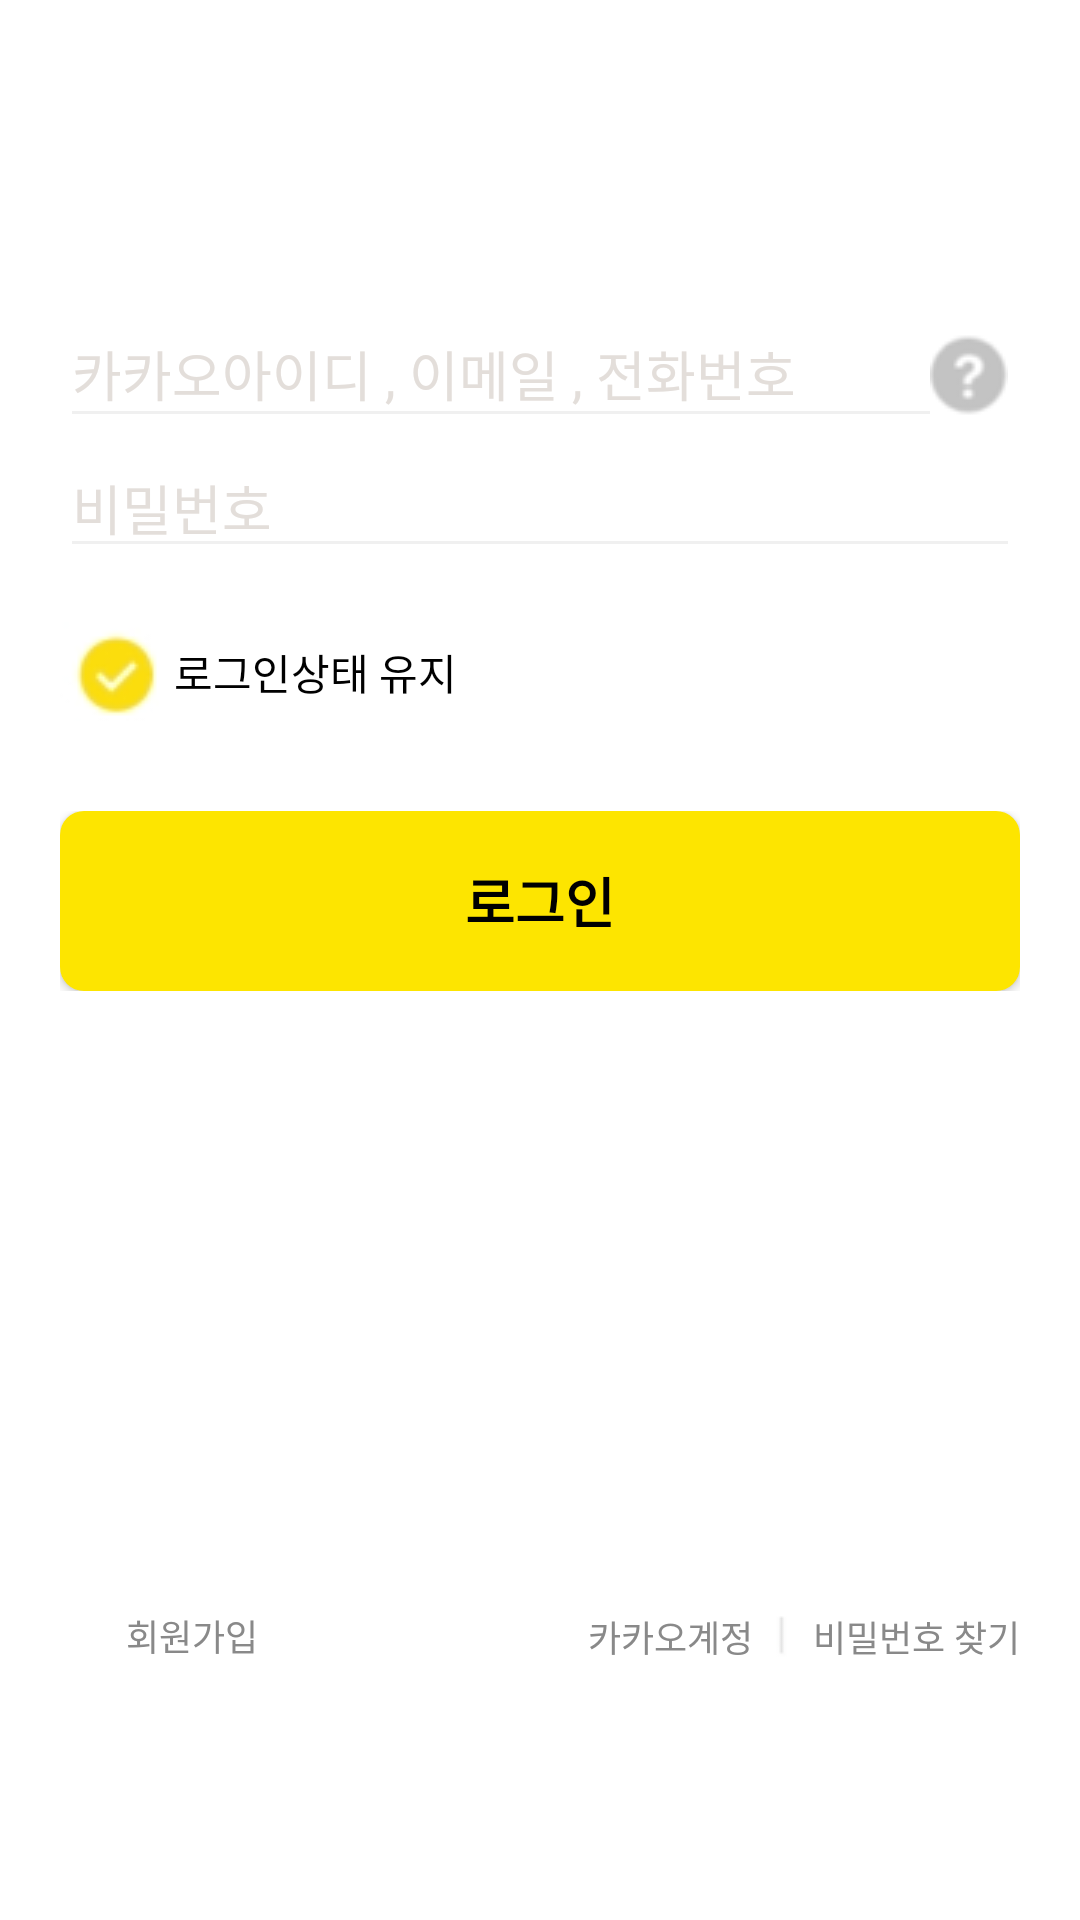

Screen size 1080×1920. Icon name, then its center in pixels as (x,y):
kakao logincheck: (116,674)
